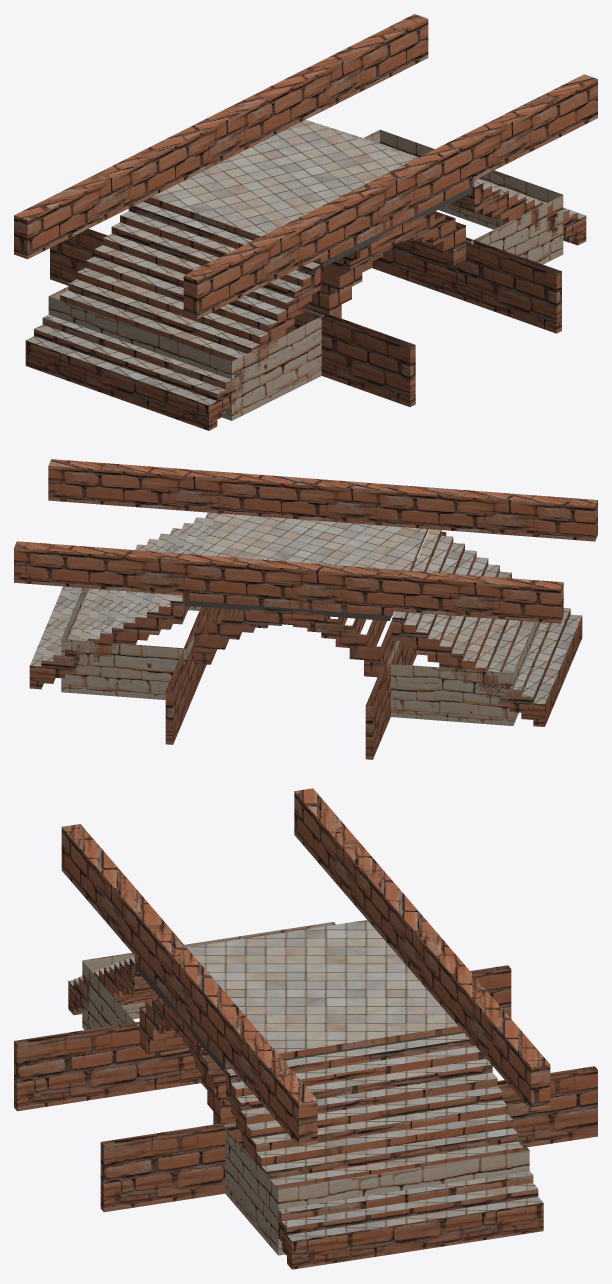
File: uruk_bridge_brick.glb
3 renders of one model, top to bottom at view 1: azimuth 30°, elevation 25°; view 2: azimuth 150°, elevation 25°; view 3: azimuth 270°, elevation 25°, orthographic. The views are drawn at different scales.
Visible parts, largest first — view 1: uruk_bridge_brick; view 2: uruk_bridge_brick; view 3: uruk_bridge_brick.
Boxes of the visible parts, x1,y1,x2,y2 form: uruk_bridge_brick: [14, 14, 597, 430]; uruk_bridge_brick: [14, 459, 597, 759]; uruk_bridge_brick: [14, 788, 597, 1269].
Size of the model in its own units: 11.14 by 2.91 by 8.73.
4 materials, 3 textured.
